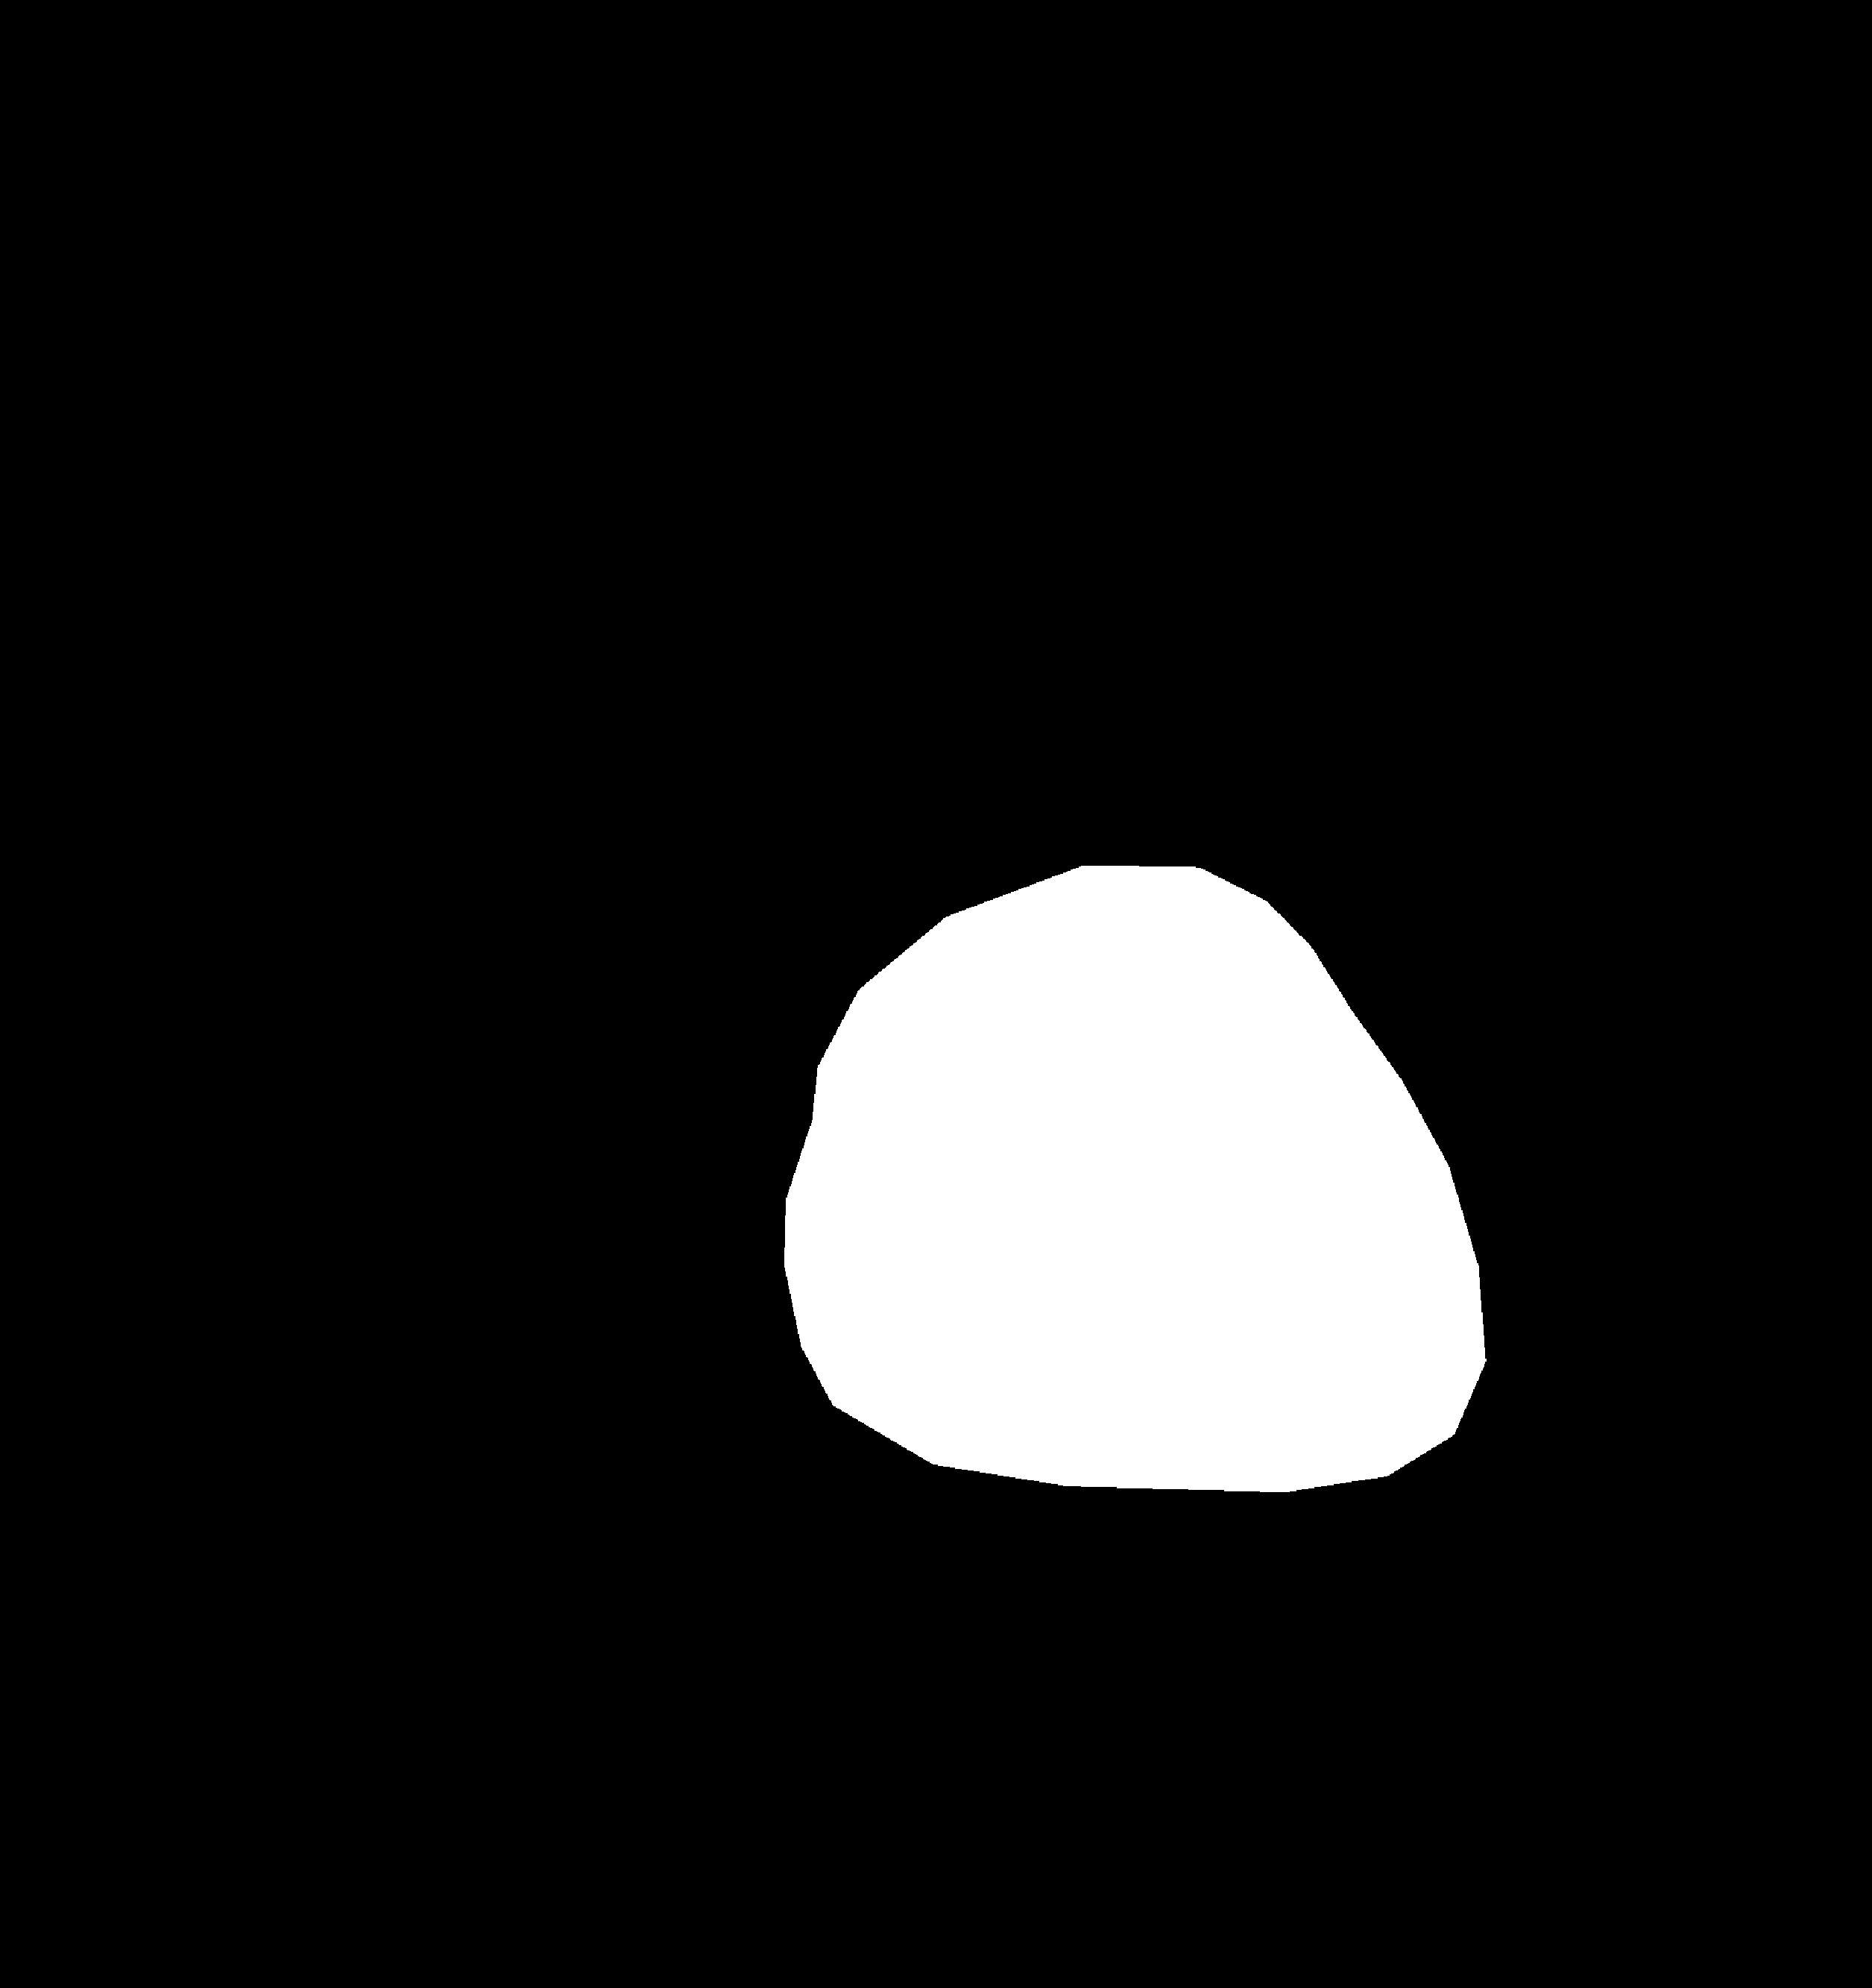heart: (660, 938, 1481, 1527)
left_lung: (176, 281, 867, 1731)
right_lung: (1042, 294, 1663, 1648)
